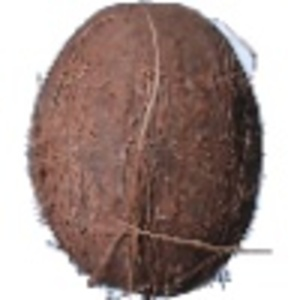coco: (28, 2, 264, 300)
